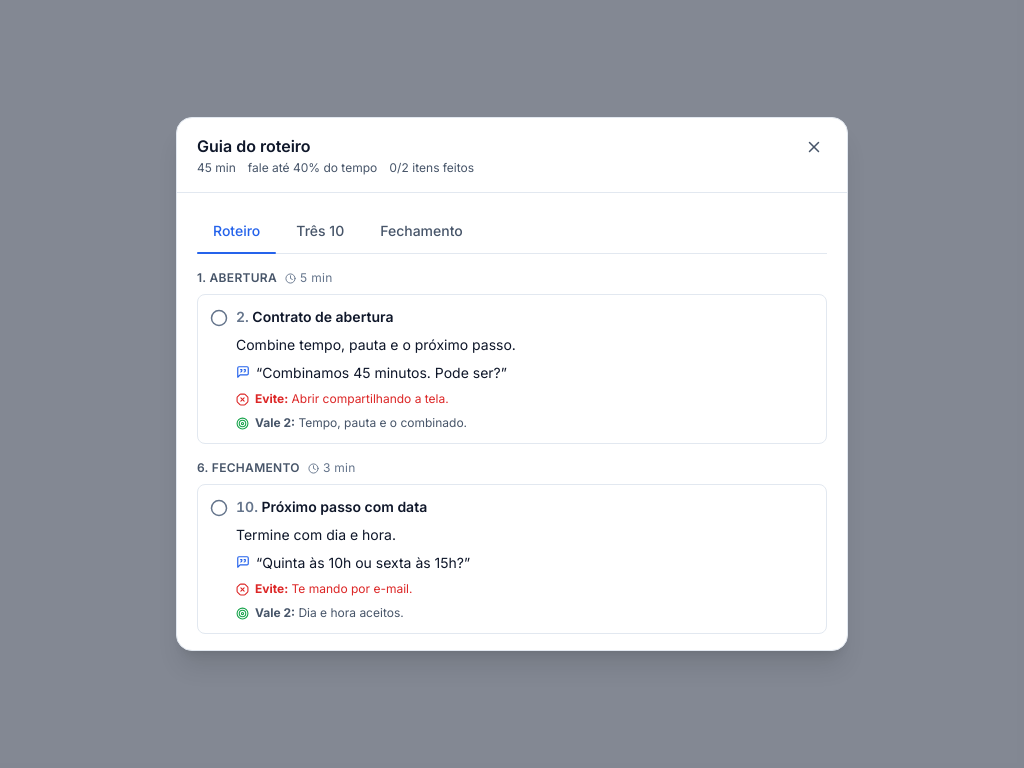
Test: GuiaRoteiro › marca e desmarca o item como feito, e o contador acompanha
expect the text "Contrato de abertura" is shown: met, box [252, 308, 394, 325]
expect the text "0/2 itens feitos" is shown: met, box [389, 160, 474, 176]
Click the button named "Marcar item 2 como feito" at (219,318), box [210, 309, 228, 327]
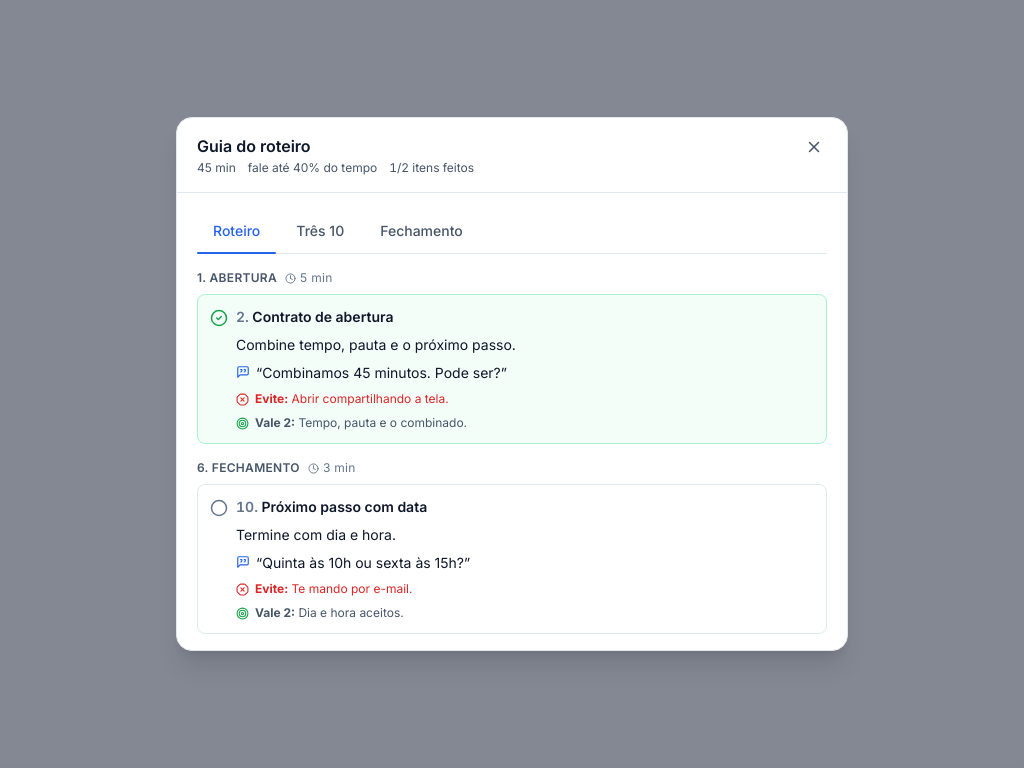
expect the text "1/2 itens feitos" is shown: met, box [389, 160, 474, 176]
Click the button named "Marcar item 2 como feito" at (219,318), box [210, 309, 228, 327]
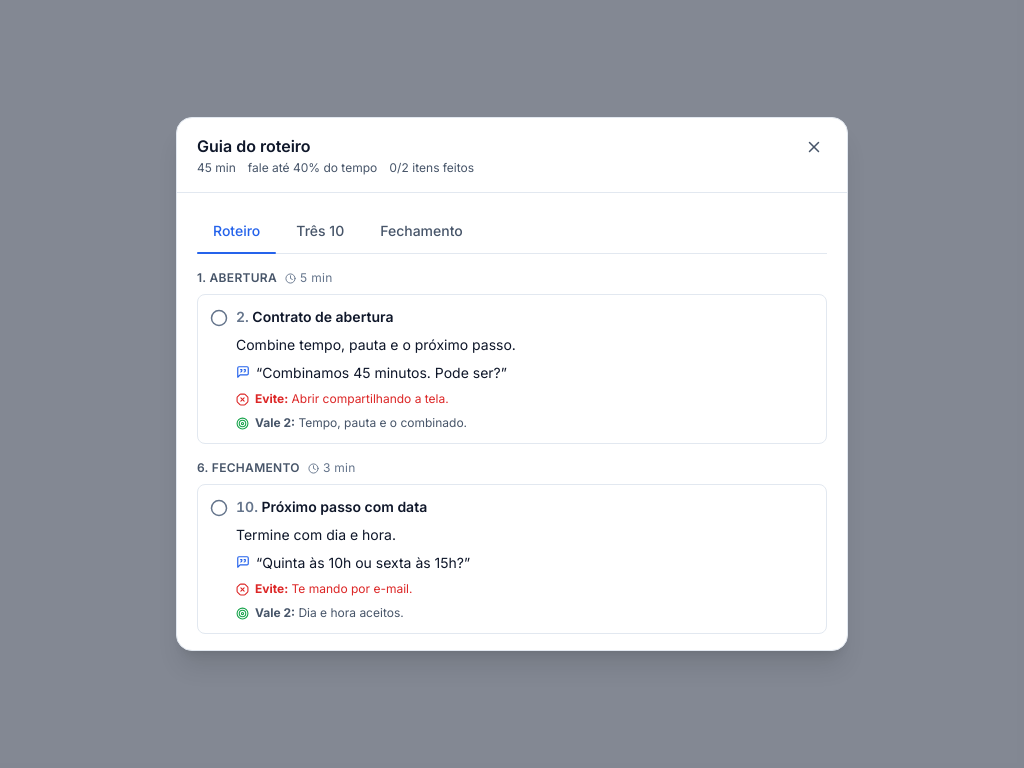
expect the text "0/2 itens feitos" is shown: met, box [389, 160, 474, 176]
